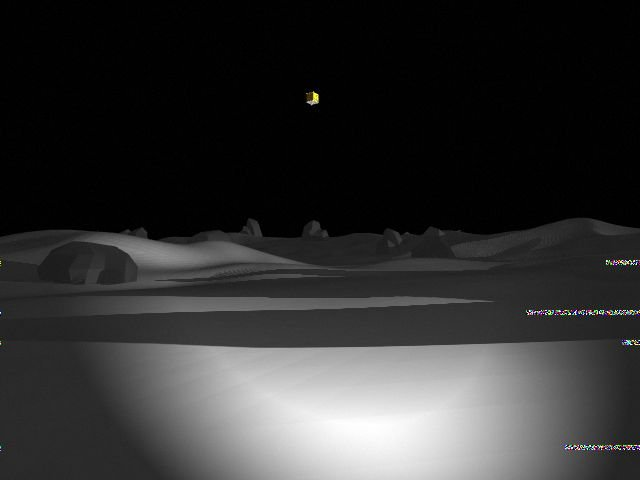cubesat: (302, 89, 323, 108)
